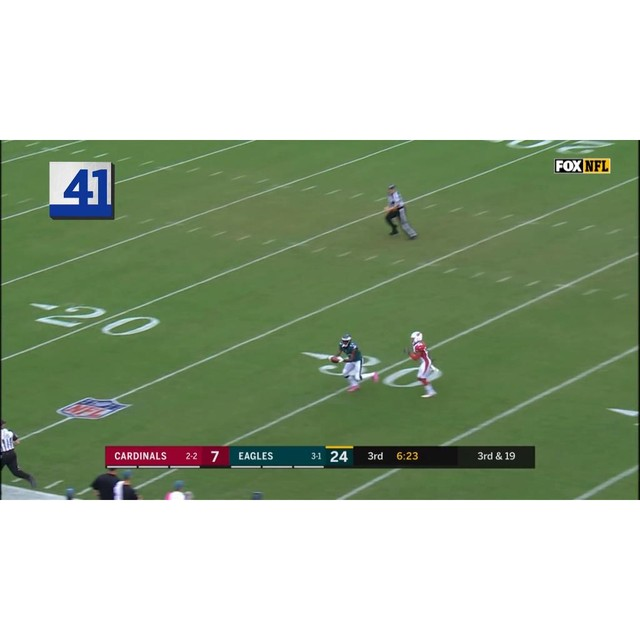american-football-player: (331, 332, 379, 393), (404, 331, 444, 398)
referee: (0, 418, 36, 490), (384, 182, 419, 240)
